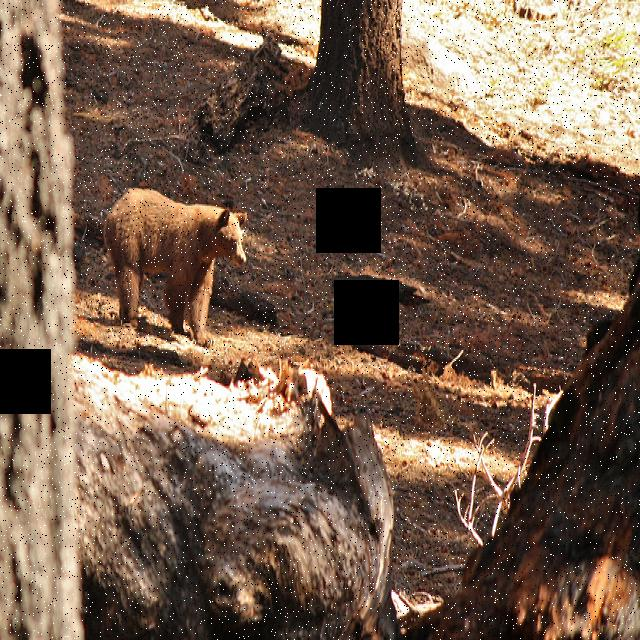Bear: (93, 176, 250, 344)
